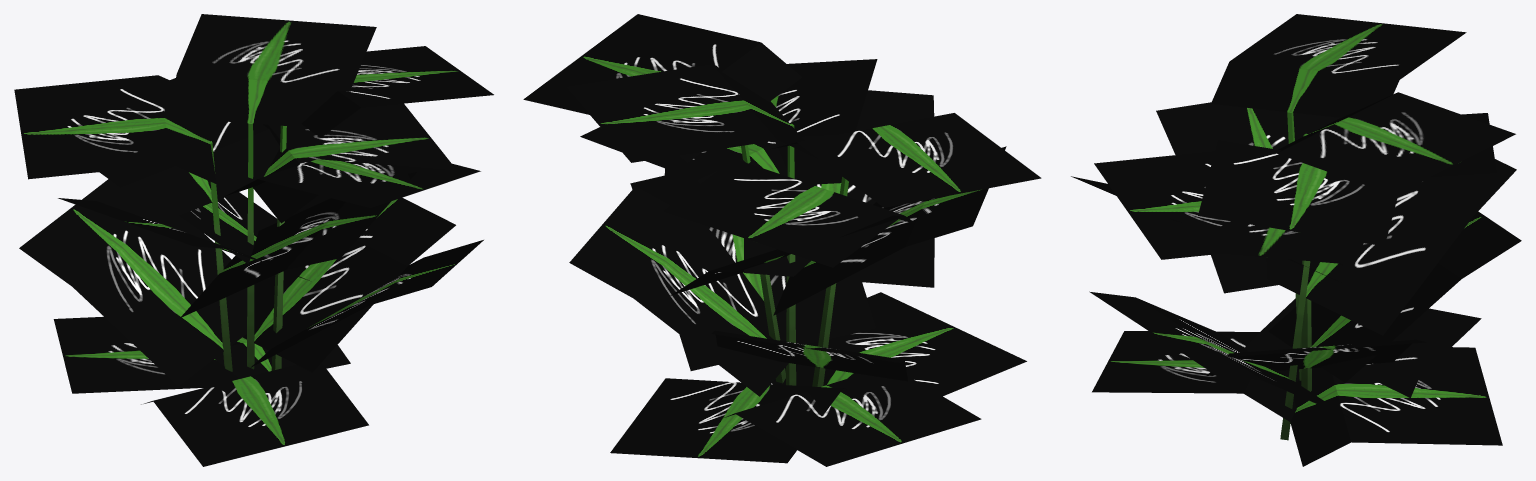
Rendered from planta gengibre MEDIUM.fbx.
3 renders of one model, left to right at view 1: azimuth 30°, elevation 25°; view 2: azimuth 150°, elevation 25°; view 3: azimuth 270°, elevation 25°, orthographic. The views are drawn at different scales.
Parts seen in each view (by area): view 1: Middle.001, Middle, Middle.002; view 2: Middle, Middle.001, Middle.002; view 3: Middle.002, Middle, Middle.001.
Boxes of the visible parts, x1,y1,x2,y2 form: Middle.001: [14, 75, 416, 466]; Middle: [53, 14, 457, 393]; Middle.002: [101, 46, 493, 378]; Middle: [566, 64, 1006, 466]; Middle.001: [663, 90, 1041, 396]; Middle.002: [523, 14, 905, 463]; Middle.002: [1089, 140, 1516, 466]; Middle: [1156, 92, 1515, 397]; Middle.001: [1071, 14, 1521, 421].
Bounding box in the file's own units: 312 × 209 × 262.
